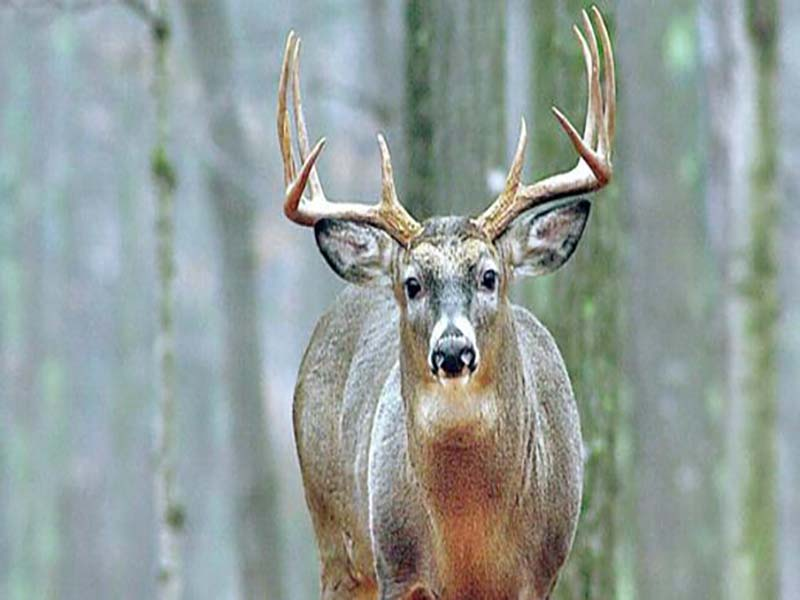cervo: (271, 14, 609, 600)
